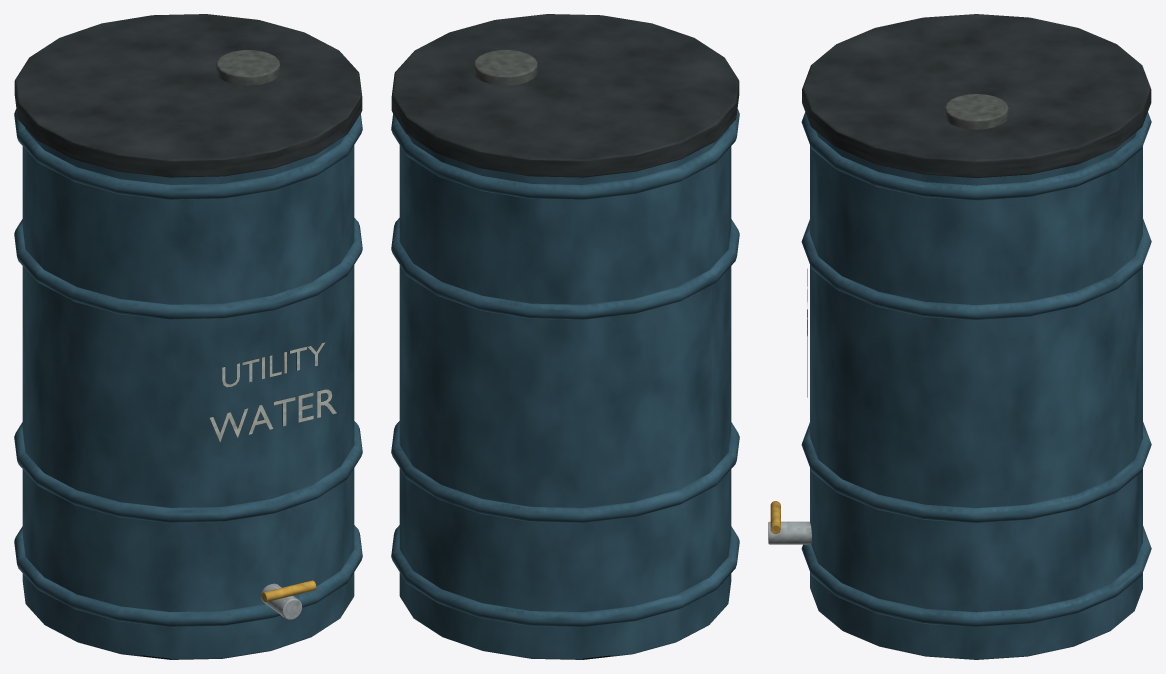
The model's file is GR_WaterBarrel_02.glb.
The picture shows the model from 3 angles, left to right: view 1: azimuth 30°, elevation 25°; view 2: azimuth 150°, elevation 25°; view 3: azimuth 270°, elevation 25°; orthographic projection.
Visible parts, largest first — view 1: Static; view 2: Static; view 3: Static.
Boxes of the visible parts, x1,y1,x2,y2 form: Static: (14,14,362,659); Static: (391,14,739,659); Static: (768,14,1151,659).
Size of the model in its own units: 0.61 by 0.9855 by 0.668.
1 material, 1 textured.
